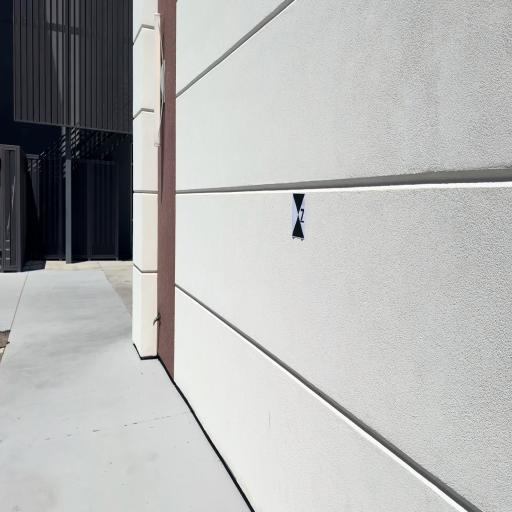target7: (292, 192, 305, 238)
